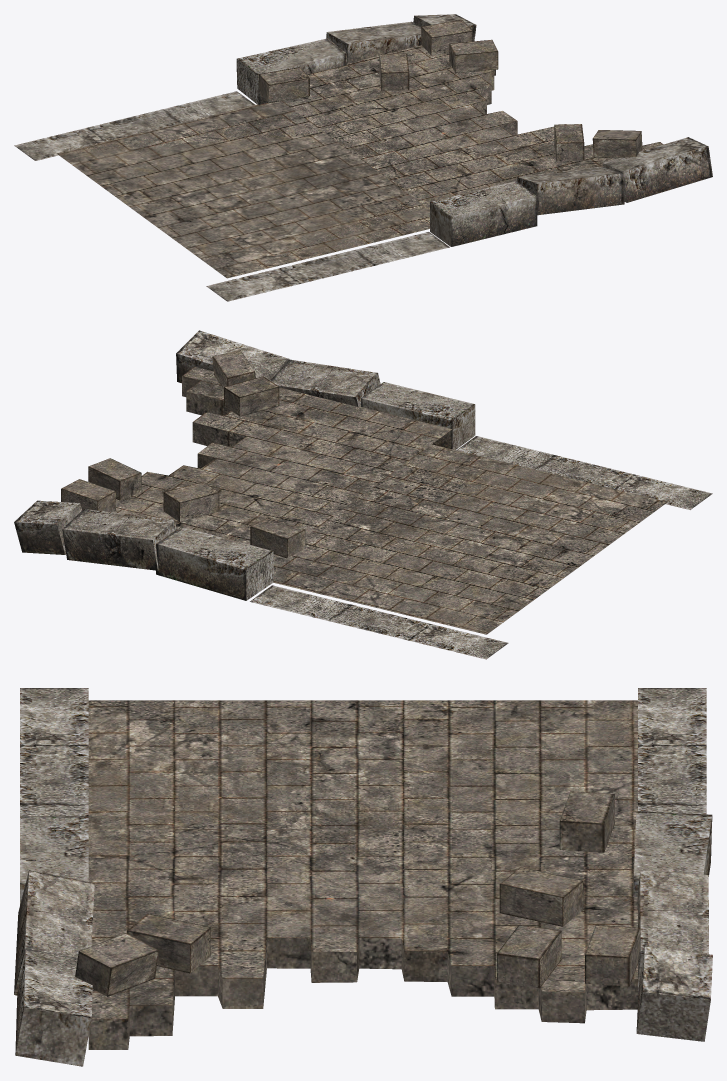
The model's file is RoadBrick_end2.fbx.
3 views of the same model, one above another, from view 1: azimuth 30°, elevation 25°; view 2: azimuth 150°, elevation 25°; view 3: azimuth 270°, elevation 25° (orthographic). The views are drawn at different scales.
Parts seen in each view (by area): view 1: polySurface611; view 2: polySurface611; view 3: polySurface611.
Boxes of the visible parts, box(x1,y1,x2,y2) form: polySurface611: box(14, 14, 712, 301); polySurface611: box(14, 330, 712, 659); polySurface611: box(14, 688, 712, 1066).
Bounding box in the file's own units: 2.62 × 0.2642 × 2.04.
